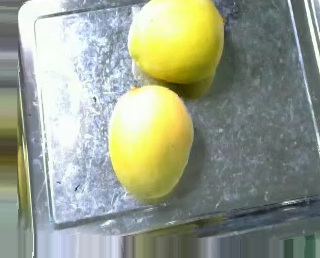Mango: (107, 85, 196, 199), (125, 0, 225, 82)
